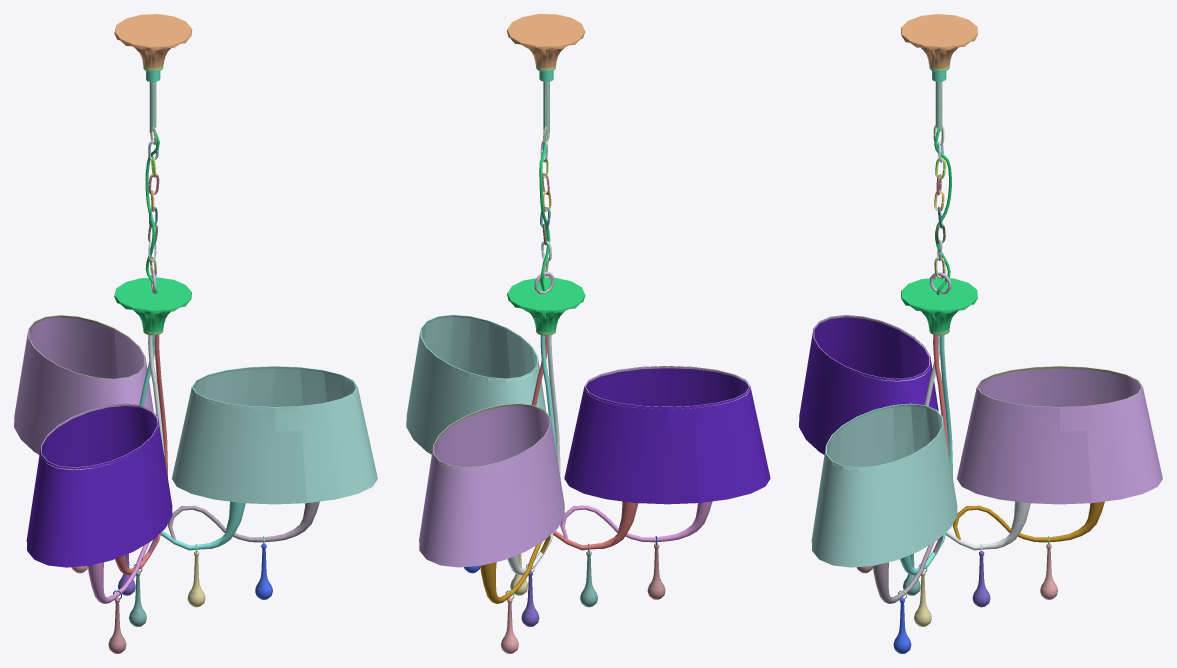
The picture shows the model from 3 angles, left to right: view 1: azimuth 30°, elevation 25°; view 2: azimuth 150°, elevation 25°; view 3: azimuth 270°, elevation 25°; orthographic projection.
Parts seen in each view (by area): view 1: split_parent_4, split_parent_11, split_parent_19, split_parent_0, mantra_353018_metal_0, split_parent_5, split_parent_22, split_parent_33, split_parent_12, split_parent_38, split_parent_35, split_parent_36; view 2: split_parent_11, split_parent_19, split_parent_4, split_parent_0, mantra_353018_metal_0, split_parent_12, split_parent_33, split_parent_36, split_parent_16, split_parent_35, split_parent_38, split_parent_22; view 3: split_parent_19, split_parent_4, split_parent_11, split_parent_0, mantra_353018_metal_0, split_parent_16, split_parent_36, split_parent_22, split_parent_5, split_parent_38, split_parent_35, split_parent_33.
Boxes of the visible parts, left/top/right/bottom form: split_parent_4: left=172, top=366, right=377, bottom=504; split_parent_11: left=26, top=403, right=172, bottom=567; split_parent_19: left=14, top=315, right=153, bottom=454; split_parent_0: left=114, top=130, right=191, bottom=332; mantra_353018_metal_0: left=114, top=14, right=192, bottom=68; split_parent_5: left=167, top=501, right=319, bottom=542; split_parent_22: left=139, top=335, right=245, bottom=553; split_parent_33: left=115, top=334, right=167, bottom=575; split_parent_12: left=88, top=535, right=158, bottom=603; split_parent_38: left=28, top=315, right=145, bottom=381; split_parent_35: left=40, top=404, right=158, bottom=470; split_parent_36: left=148, top=335, right=164, bottom=456; split_parent_11: left=564, top=366, right=770, bottom=504; split_parent_19: left=419, top=403, right=564, bottom=567; split_parent_4: left=406, top=314, right=546, bottom=454; split_parent_0: left=507, top=134, right=585, bottom=332; mantra_353018_metal_0: left=506, top=14, right=585, bottom=68; split_parent_12: left=560, top=501, right=712, bottom=542; split_parent_33: left=531, top=335, right=638, bottom=553; split_parent_36: left=507, top=335, right=560, bottom=575; split_parent_16: left=480, top=535, right=550, bottom=603; split_parent_35: left=584, top=366, right=750, bottom=409; split_parent_38: left=433, top=403, right=550, bottom=469; split_parent_22: left=540, top=335, right=556, bottom=455; split_parent_19: left=957, top=366, right=1162, bottom=504; split_parent_4: left=811, top=403, right=957, bottom=567; split_parent_11: left=799, top=315, right=938, bottom=454; split_parent_0: left=901, top=128, right=977, bottom=332; mantra_353018_metal_0: left=901, top=14, right=977, bottom=68; split_parent_16: left=952, top=501, right=1104, bottom=542; split_parent_36: left=924, top=335, right=1030, bottom=553; split_parent_22: left=900, top=335, right=952, bottom=575; split_parent_5: left=873, top=535, right=943, bottom=603; split_parent_38: left=976, top=366, right=1143, bottom=409; split_parent_35: left=813, top=315, right=930, bottom=381; split_parent_33: left=933, top=334, right=949, bottom=456.
Size of the model in its own units: 0.6239 by 1 by 0.57.
